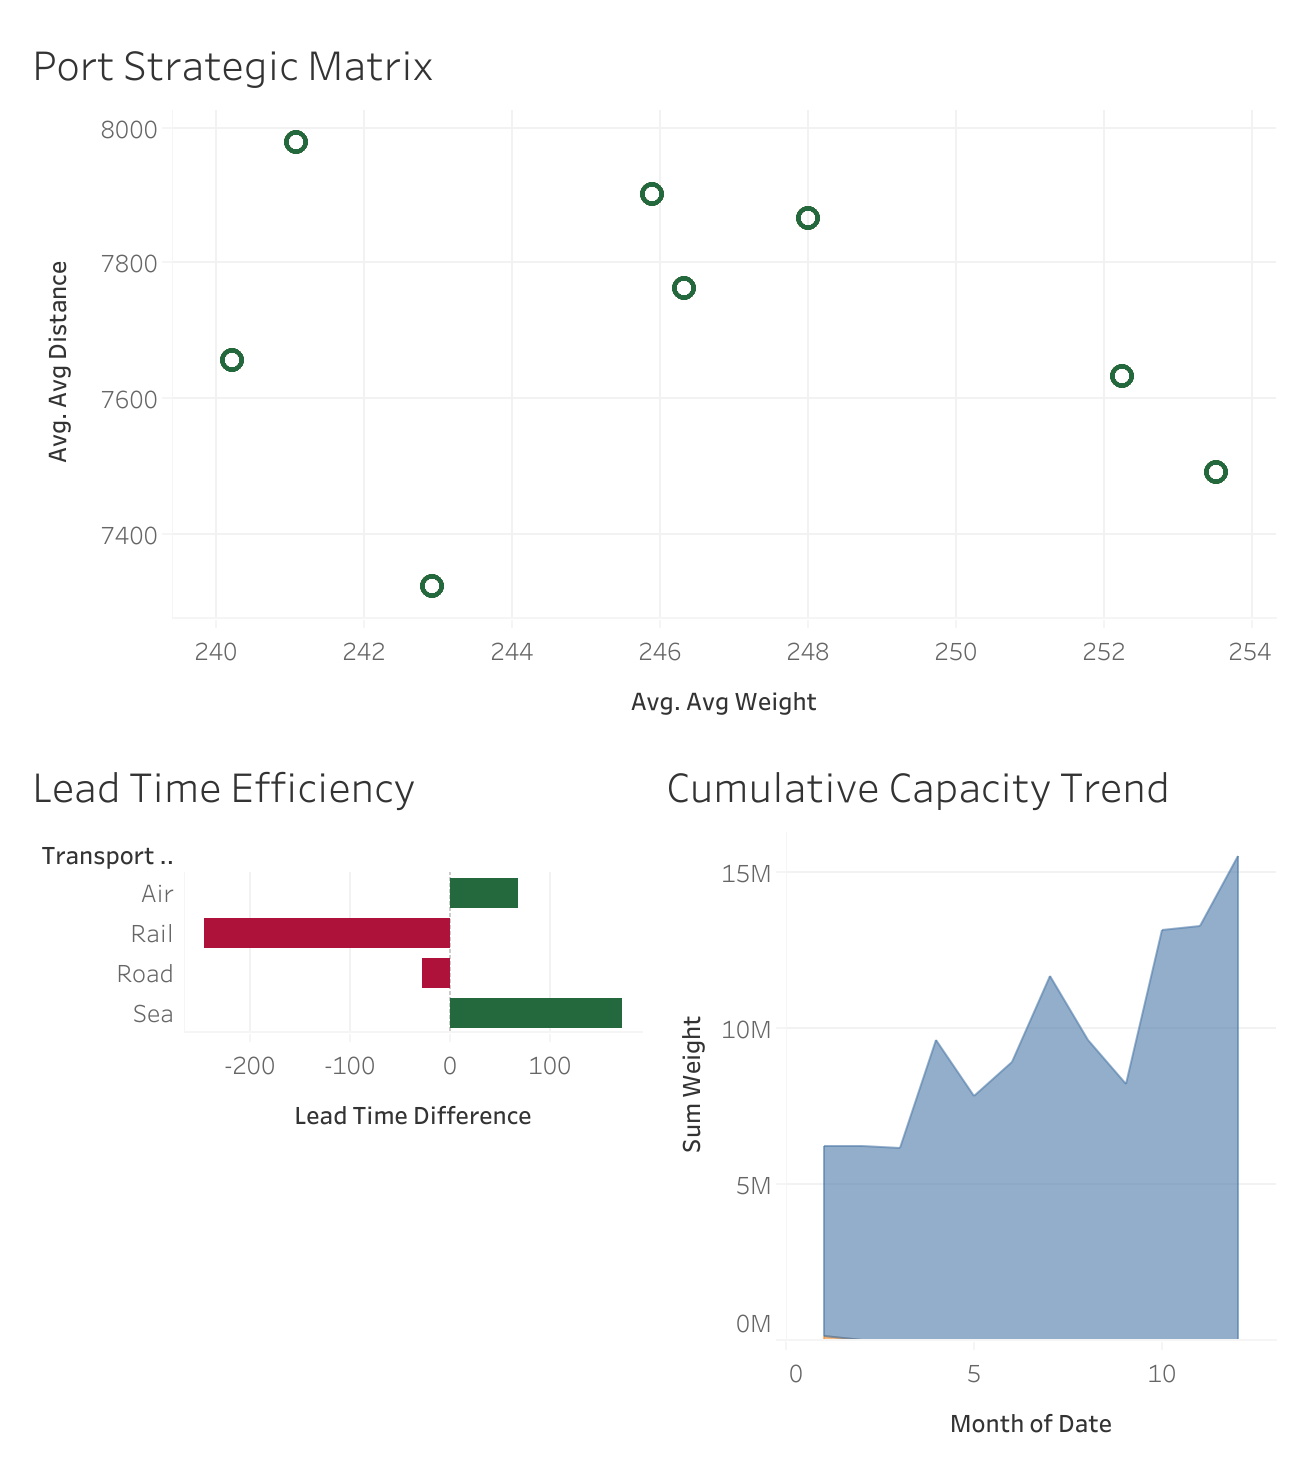

The dashboard page shown, as its layout file describes it:
{"tool":"tableau","page":{"name":"Dashboard 1","canvas":[650,860],"ordinal":0},"visuals":[{"type":"worksheet","title":"Port Strategic Matrix","mark":"Automatic","rows":["avg_distance"],"cols":["avg_weight"],"box":[8,8.6,634,421.4]},{"type":"worksheet","title":"Lead Time Efficiency","mark":"Automatic","rows":["transport_mode"],"cols":["lead_time_difference"],"box":[8,430,317,421.4]},{"type":"worksheet","title":"Cumulative Capacity Trend","mark":"Area","rows":["sum_weight"],"cols":["date"],"box":[325,430,317,421.4]}]}

Visuals, with their boxes in screenshot pixels (x1, y1, x2, y2):
"Port Strategic Matrix" worksheet: box(160, 68, 1233, 782)
"Lead Time Efficiency" worksheet: box(160, 782, 696, 1475)
"Cumulative Capacity Trend" worksheet (Area marks): box(696, 782, 1233, 1475)
